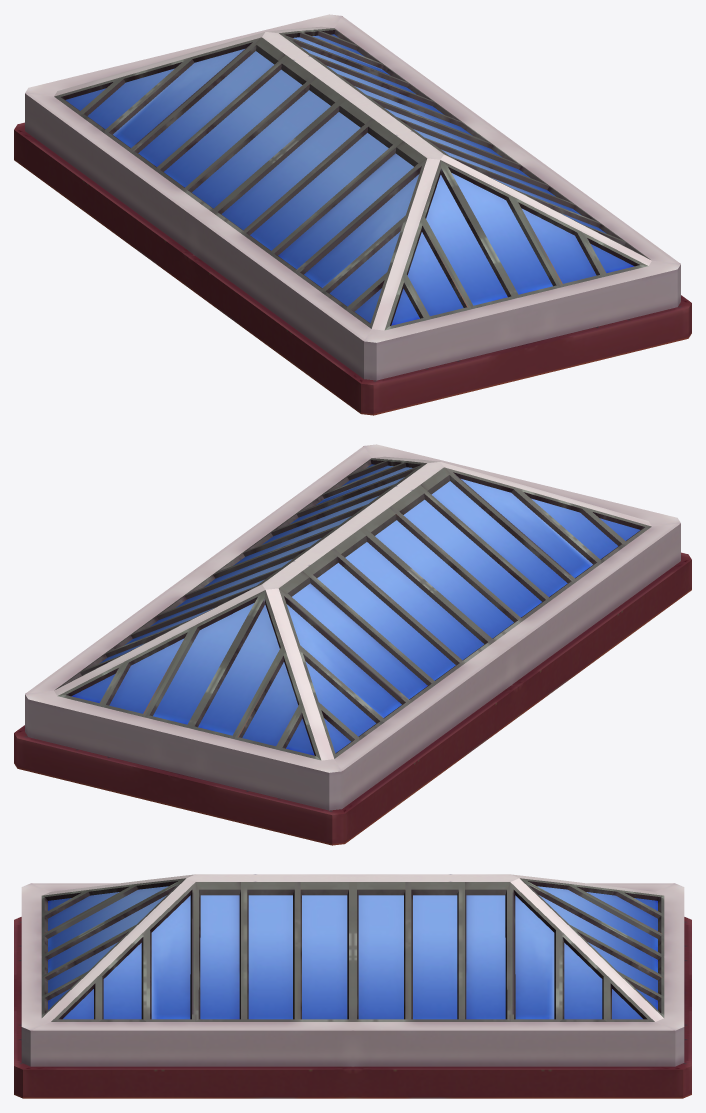
Rendered from Obstacle_SunRoof.FBX.
3 views of the same model, one above another, from view 1: azimuth 30°, elevation 25°; view 2: azimuth 150°, elevation 25°; view 3: azimuth 270°, elevation 25° (orthographic). The views are drawn at different scales.
Visible parts, largest first — view 1: Obstacle_SunRoof; view 2: Obstacle_SunRoof; view 3: Obstacle_SunRoof.
Part boxes in pixels (x1=…): Obstacle_SunRoof: x1=14, y1=14, x2=691, y2=415; Obstacle_SunRoof: x1=14, y1=444, x2=691, y2=845; Obstacle_SunRoof: x1=14, y1=874, x2=691, y2=1098.
Size of the model in its own units: 14.06 by 6.12 by 26.21.
